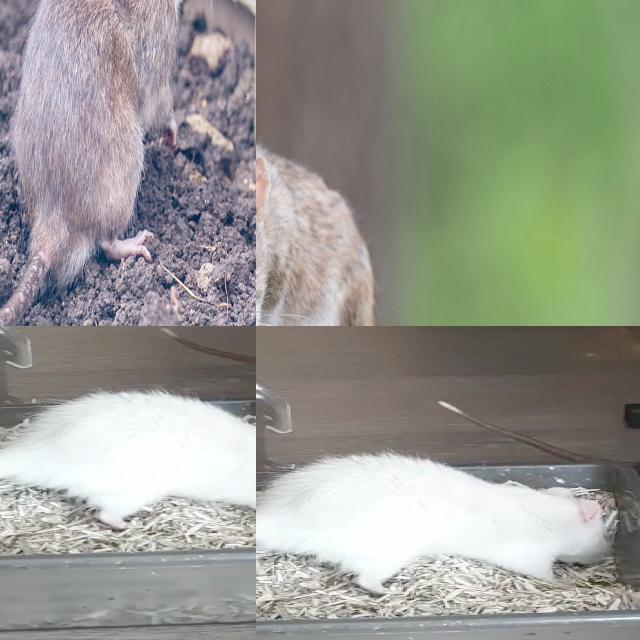rat: (12, 0, 217, 239), (260, 457, 616, 591), (0, 391, 256, 533), (256, 141, 371, 326)
